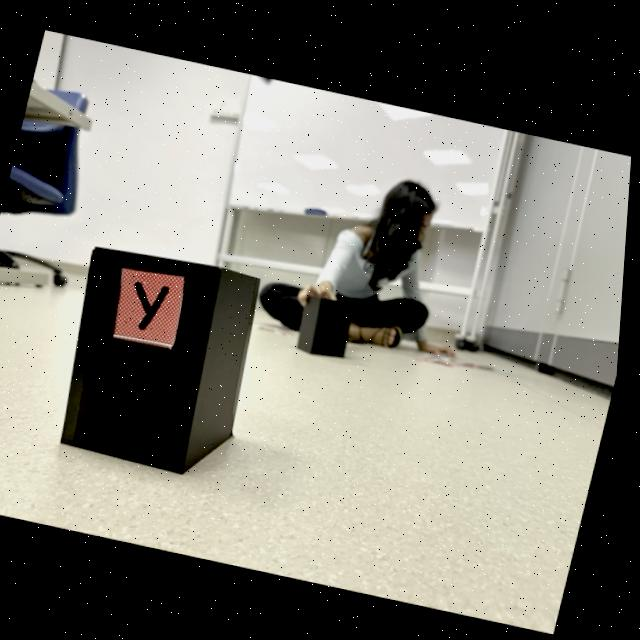Y: (138, 281, 174, 329)
